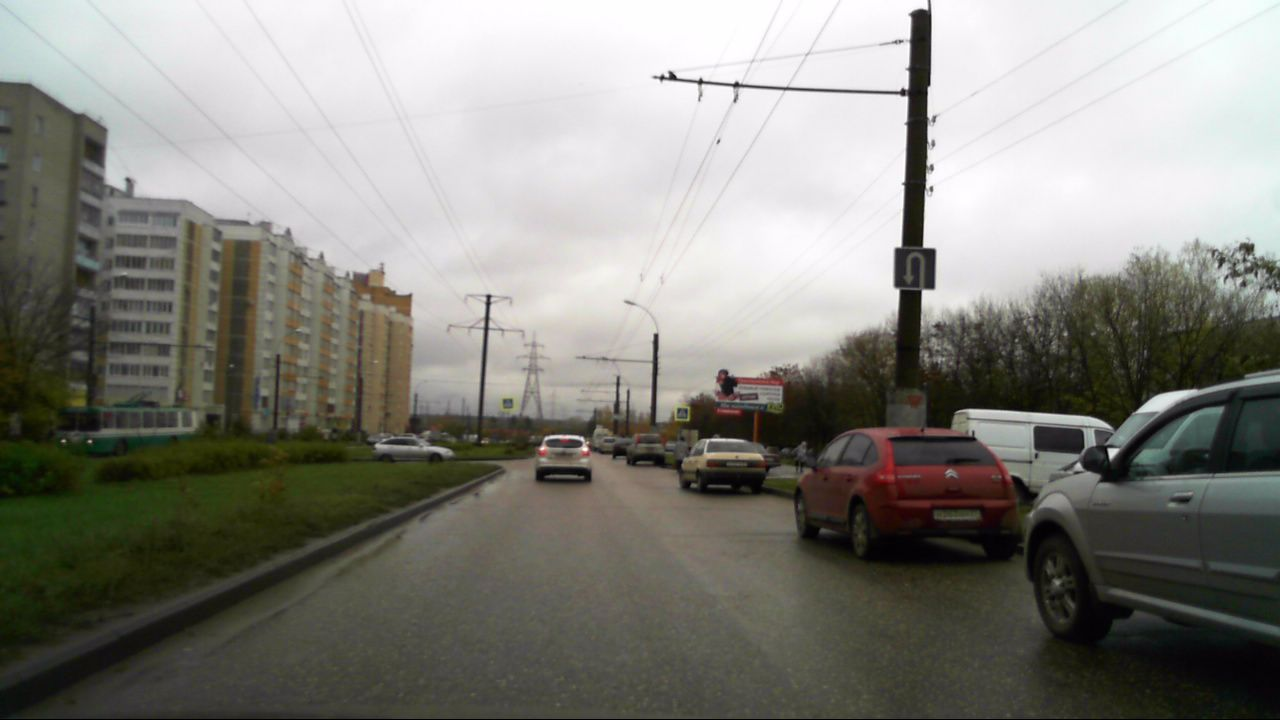U-turn: (895, 248, 936, 289)
